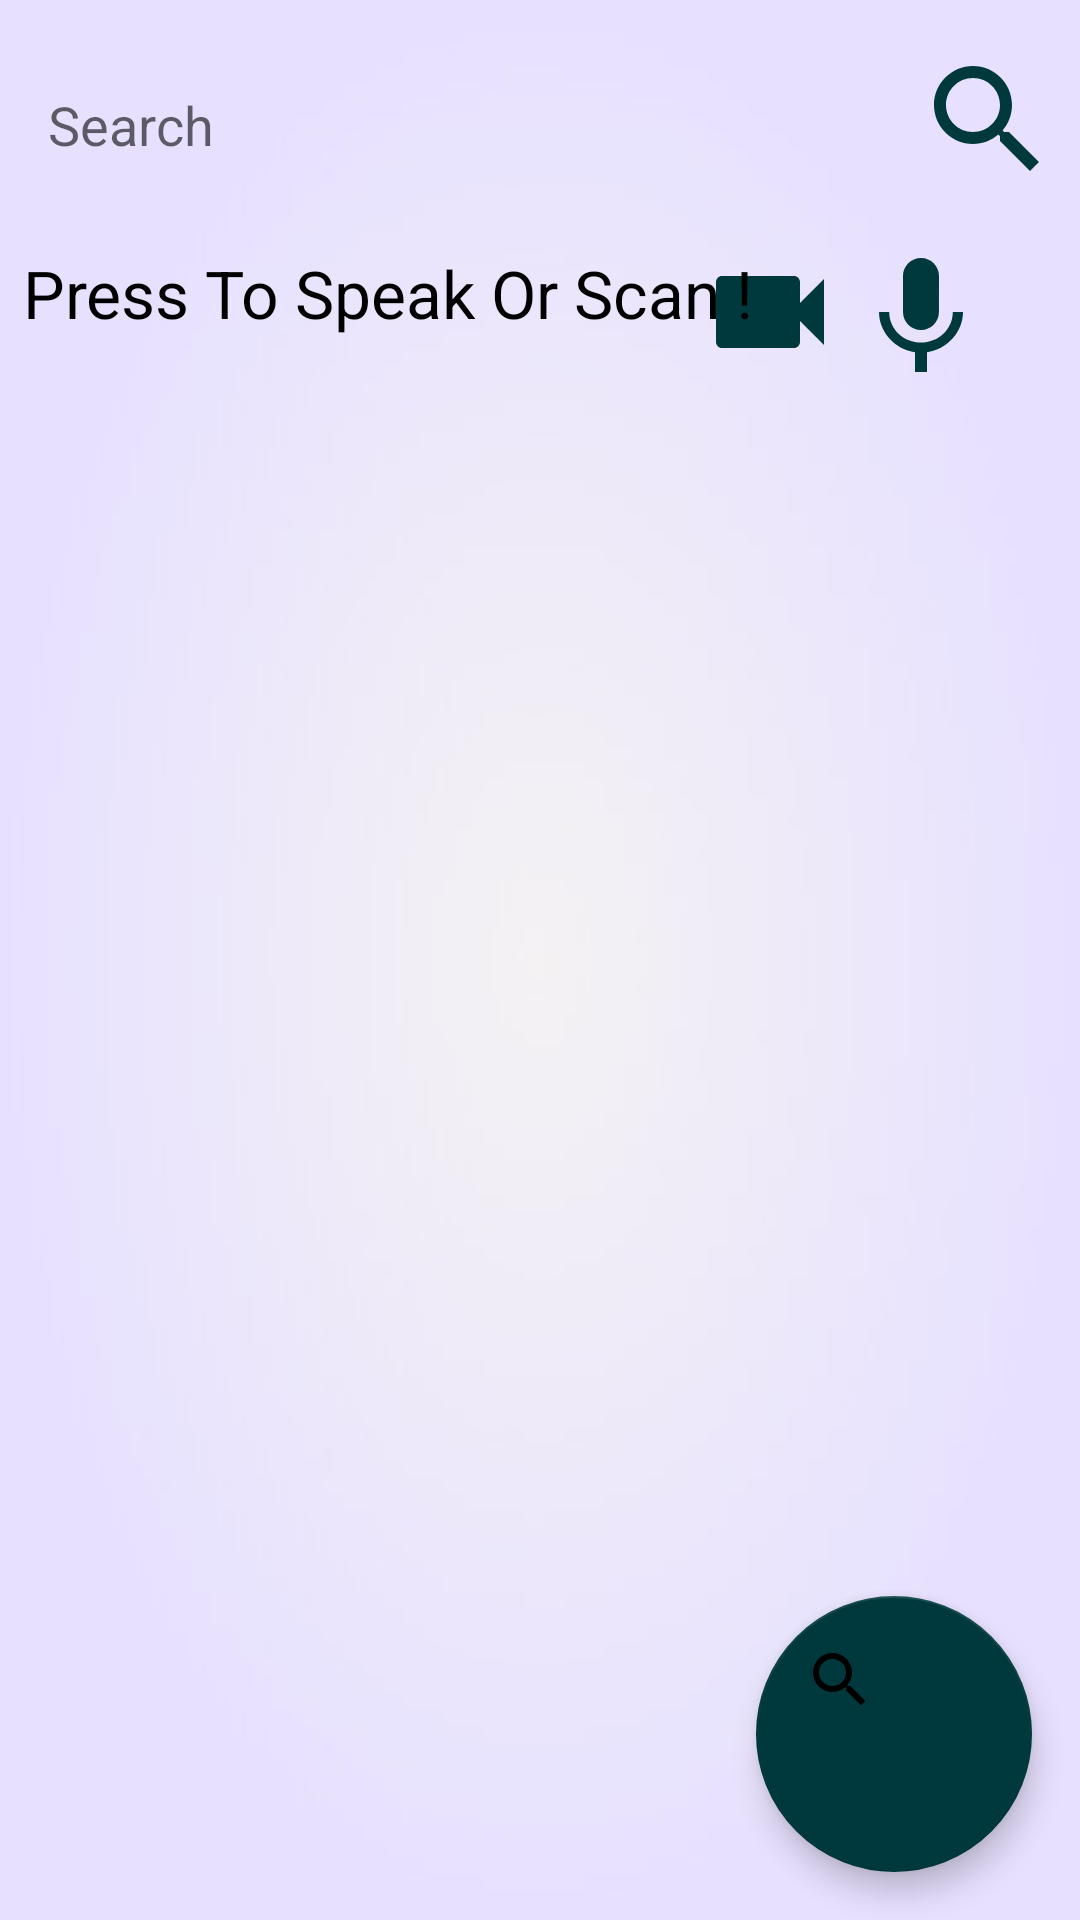

Icons on this 1080w x 1920h Android screen, each with the point to tap as (x,y):
submit: (894,1734)
voice: (921,315)
